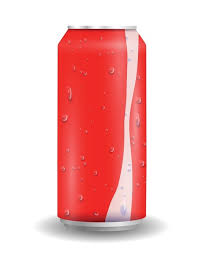can: (55, 22, 150, 233)
